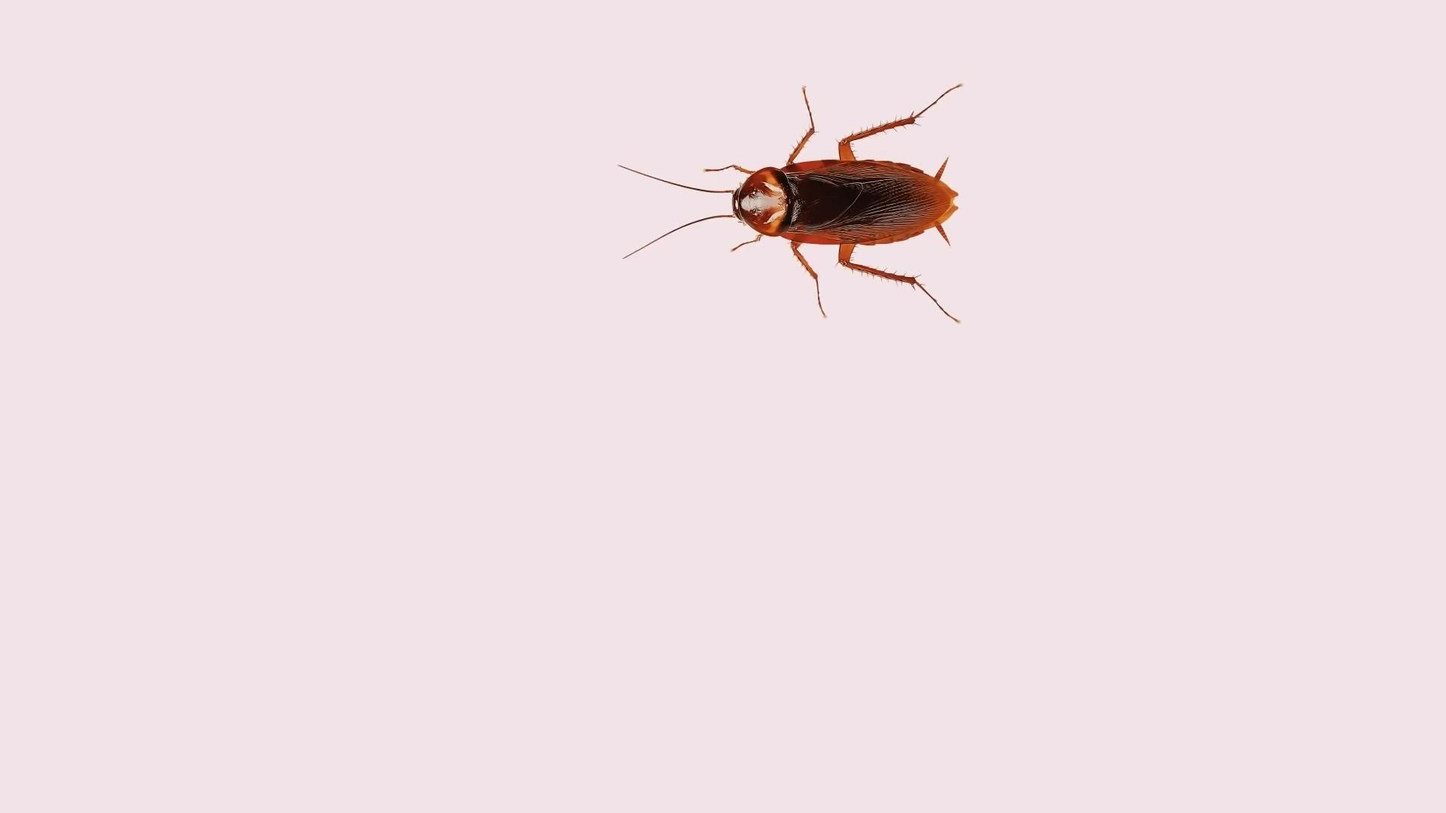cockroach: (604, 78, 976, 329)
